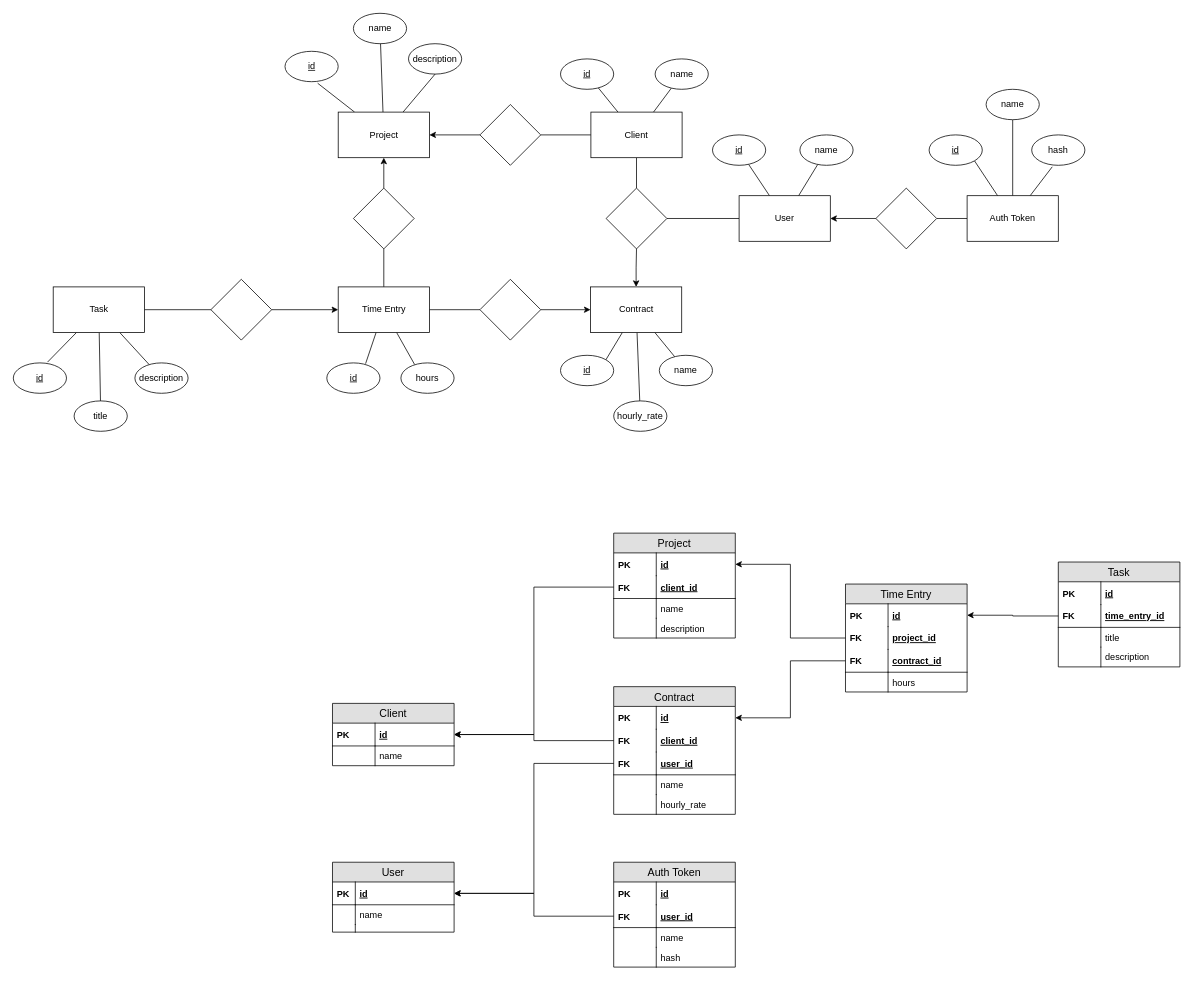
Some shapes in this 1193 by 983 pixel diagram are drawn without their labels. Here are the shapes that lost their labels. From the top down, the centre of each, then its label:
(x=510, y=134): Comissions
(x=383, y=218): Works On
(x=636, y=218): Enters Into
(x=906, y=218): Belongs To
(x=241, y=309): Completed During
(x=510, y=309): Works Under
